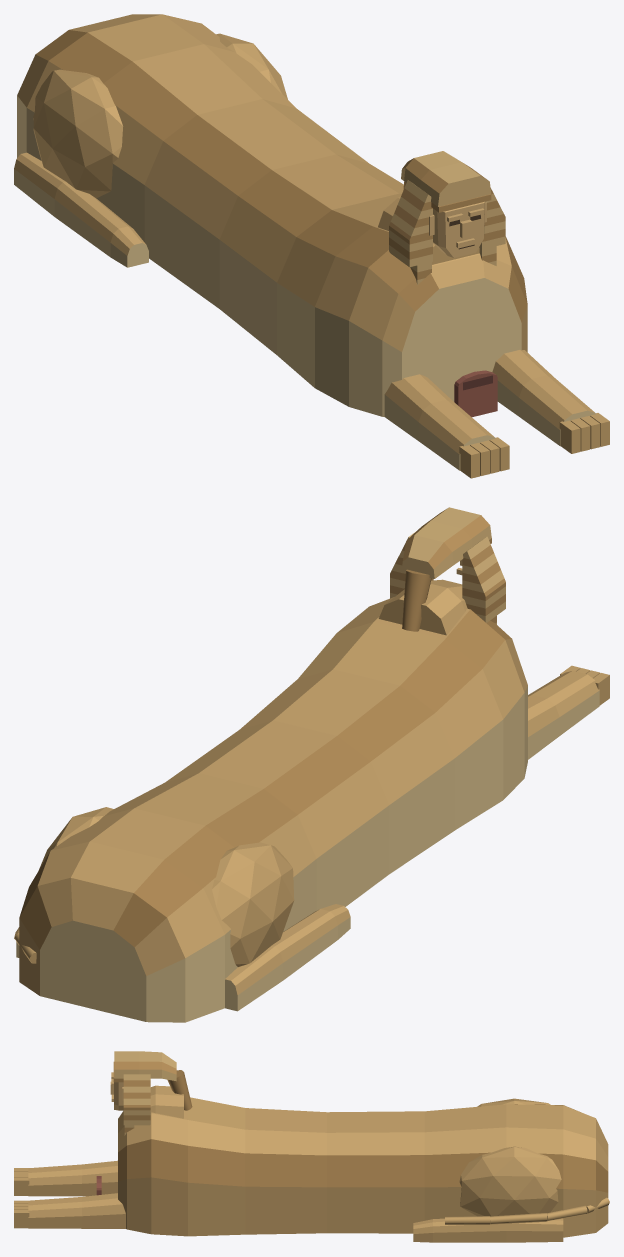
The model's file is esfinge.glb.
3 views of the same model, one above another, from view 1: azimuth 30°, elevation 25°; view 2: azimuth 150°, elevation 25°; view 3: azimuth 270°, elevation 25° (orthographic). The views are drawn at different scales.
Parts seen in each view (by area): view 1: Corpo, Patas, Nemes, Rosto, Estela, Cabeca; view 2: Corpo, Patas, Nemes, Cabeca; view 3: Corpo, Patas, Nemes, Cabeca, Rosto.
Part boxes in pixels (x1,y1,x2,y2): Corpo: [17, 14, 527, 416]; Patas: [14, 152, 609, 478]; Nemes: [389, 151, 505, 284]; Rosto: [429, 201, 486, 257]; Estela: [454, 370, 497, 417]; Cabeca: [378, 197, 479, 264]; Corpo: [14, 597, 527, 1022]; Patas: [16, 665, 609, 1011]; Nemes: [390, 507, 505, 631]; Cabeca: [378, 579, 467, 635]; Corpo: [118, 1097, 609, 1237]; Patas: [14, 1160, 563, 1242]; Nemes: [113, 1051, 192, 1135]; Cabeca: [150, 1085, 183, 1118]; Rosto: [110, 1072, 123, 1110].
Size of the model in its own units: 21.6 by 20.55 by 73.06.
